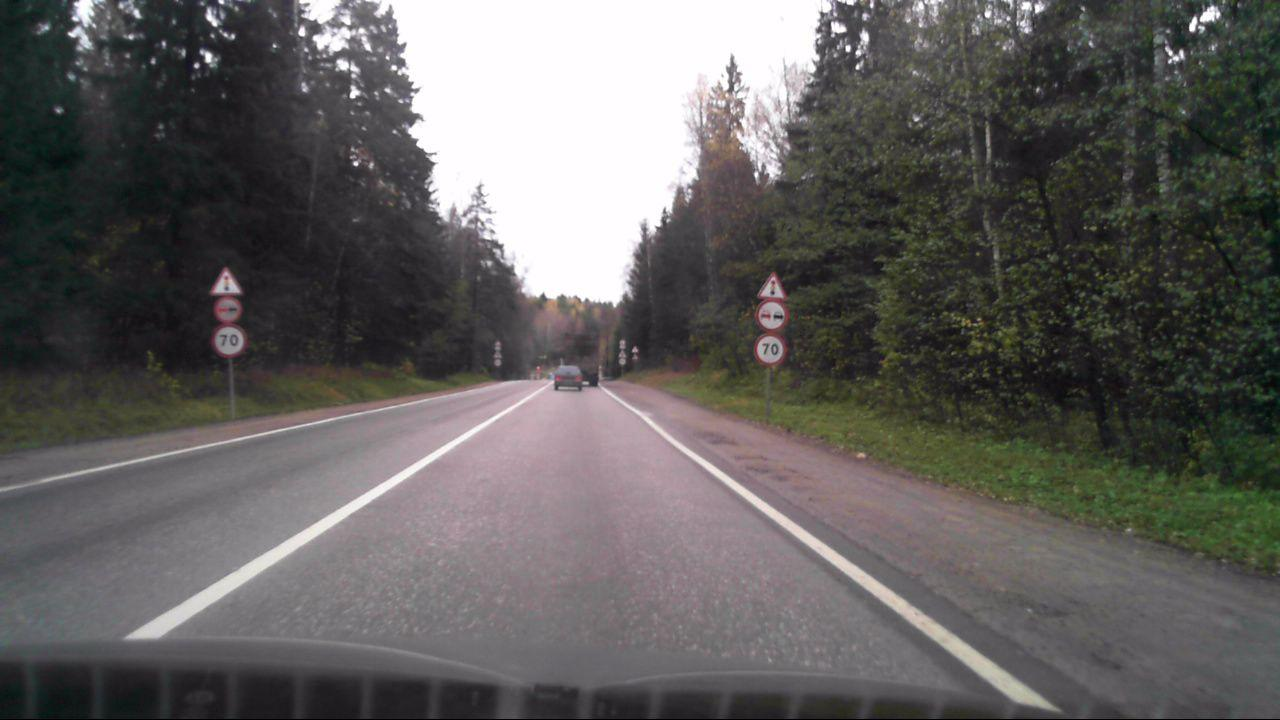1_8: (206, 264, 245, 296), (757, 272, 787, 300)
3_20: (755, 300, 789, 332), (214, 298, 243, 325)
3_24: (752, 334, 789, 367), (214, 327, 245, 355)
